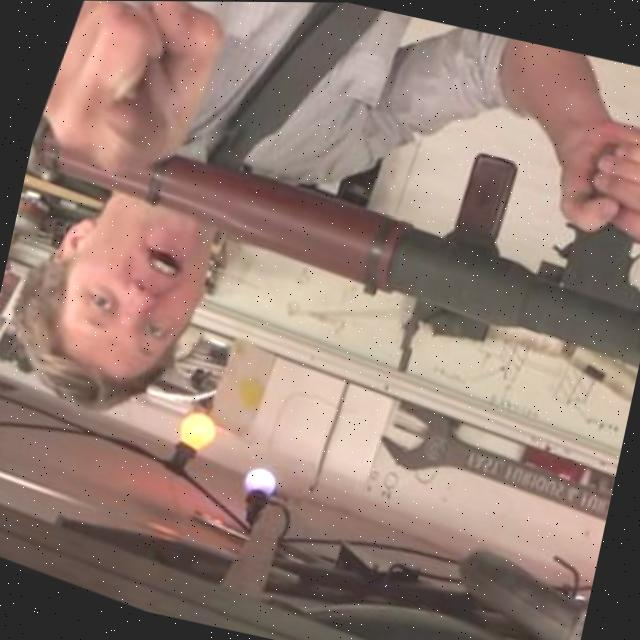rocket: (104, 37, 640, 395)
